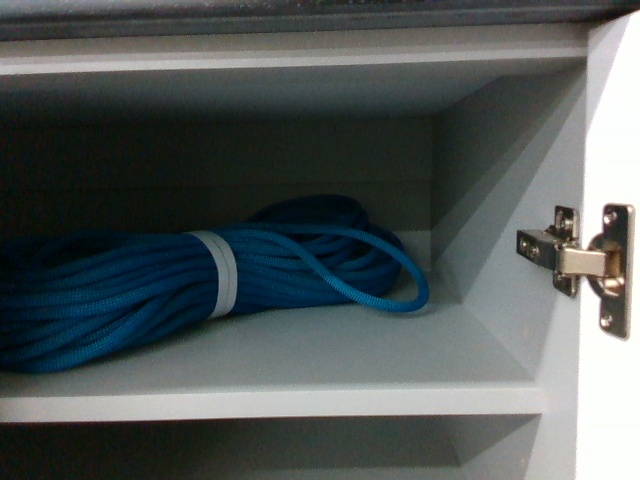rope: (17, 212, 434, 369)
